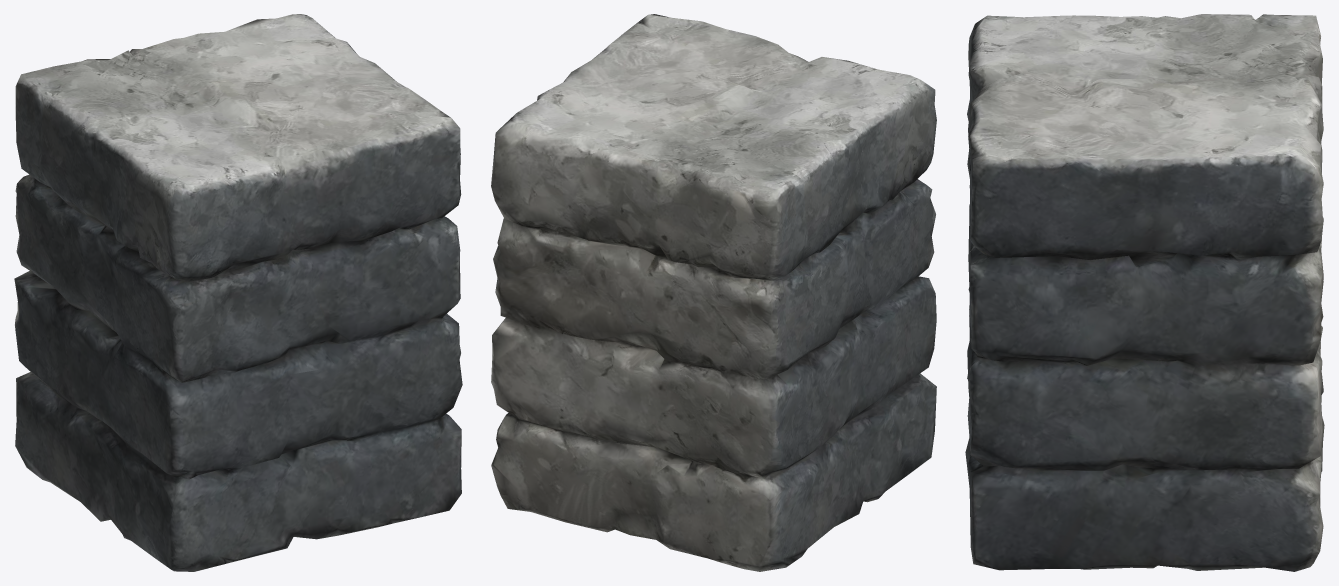
File: qr_concblocks.glb
3 views of the same model, side by side, from view 1: azimuth 30°, elevation 25°; view 2: azimuth 150°, elevation 25°; view 3: azimuth 270°, elevation 25° (orthographic). The views are drawn at different scales.
Visible parts, largest first — view 1: tripo_node_ca301a5e-ec97-4306-9562-baa3a13d2619; view 2: tripo_node_ca301a5e-ec97-4306-9562-baa3a13d2619; view 3: tripo_node_ca301a5e-ec97-4306-9562-baa3a13d2619.
Part boxes in pixels (<box>): tripo_node_ca301a5e-ec97-4306-9562-baa3a13d2619: <box>14,14,462,571</box>; tripo_node_ca301a5e-ec97-4306-9562-baa3a13d2619: <box>491,14,936,571</box>; tripo_node_ca301a5e-ec97-4306-9562-baa3a13d2619: <box>965,14,1324,571</box>.
Size of the model in its own units: 0.7894 by 1 by 0.7805.
1 material, 1 textured.
